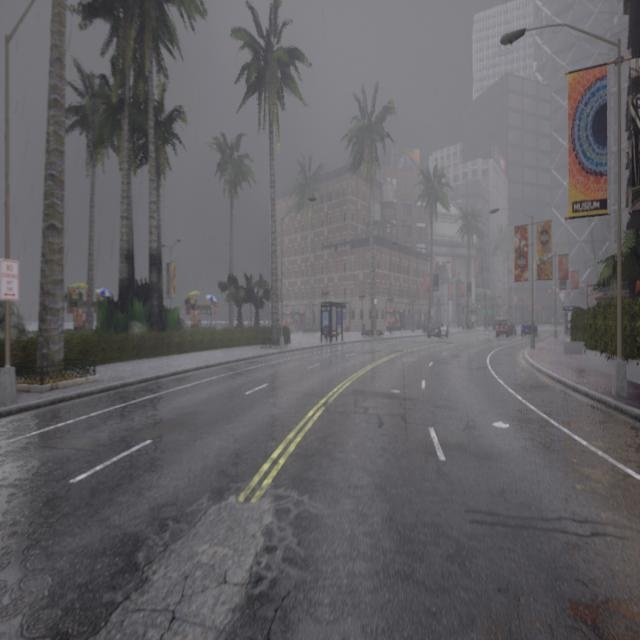bien_chi_dan: (548, 287, 552, 300), (568, 286, 571, 300), (548, 288, 551, 294), (568, 287, 571, 293)
